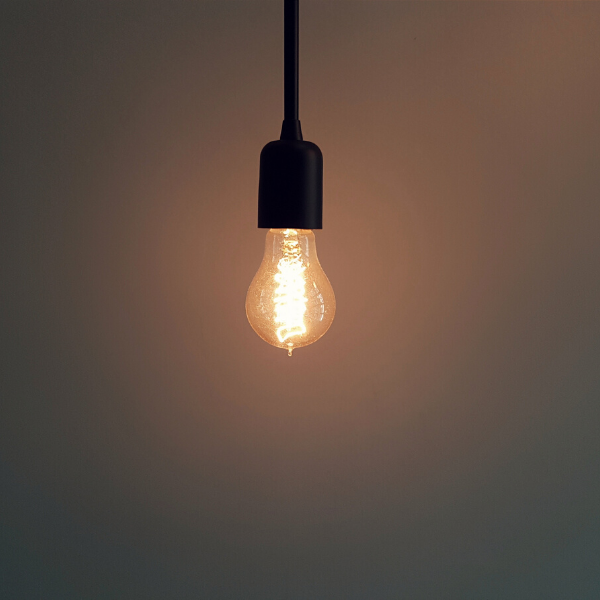Light_bulb: (233, 210, 350, 356)
